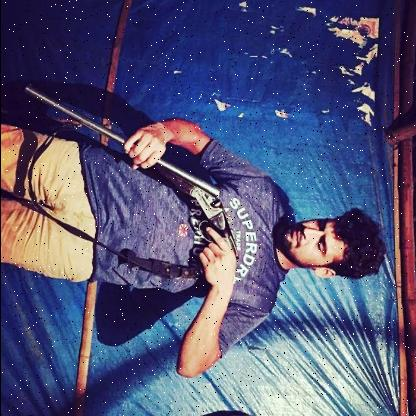rifle: (18, 78, 240, 286)
